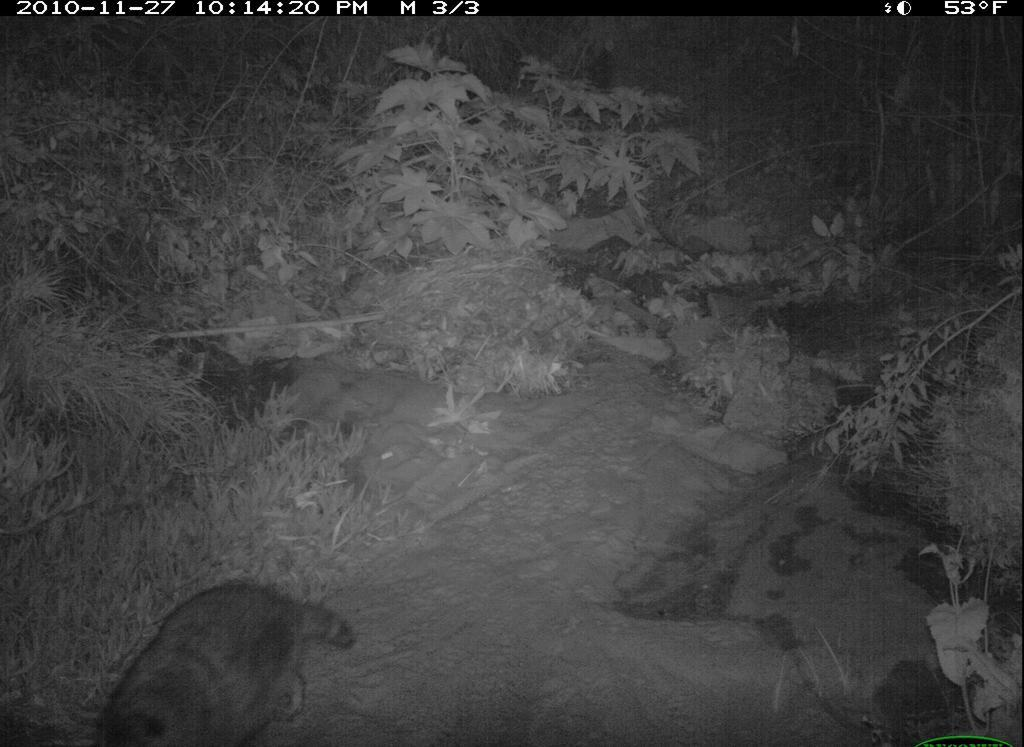raccoon: (89, 565, 370, 747)
